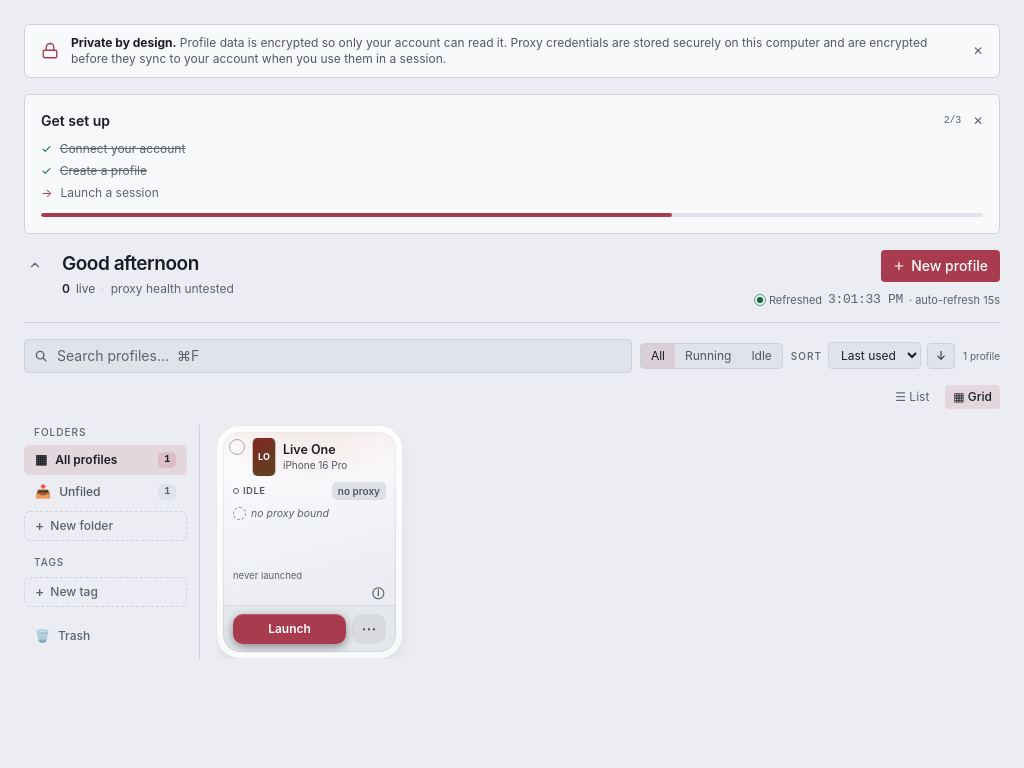
TrashPanel load truth › recovers from a failed load through Retry
Expected: the text "Live One" is shown, [283, 442, 336, 456]
Click the button "🗑️ Trash": [106, 636] box [24, 620, 187, 650]
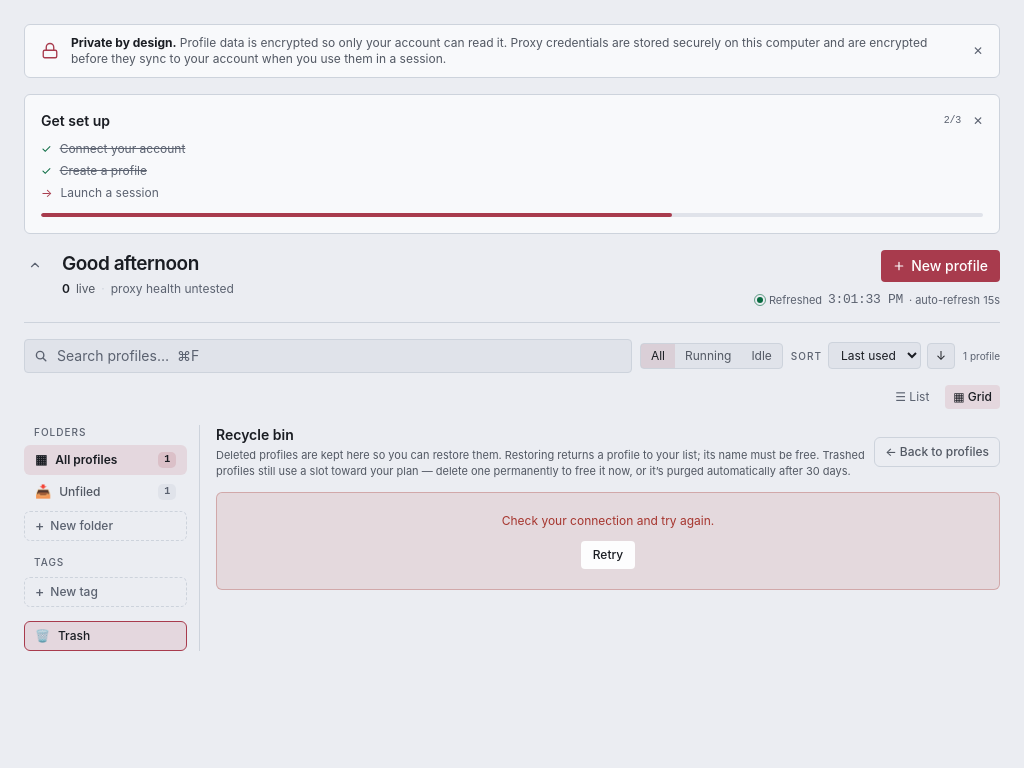
Click the button "Retry": [608, 554] box [581, 540, 635, 568]
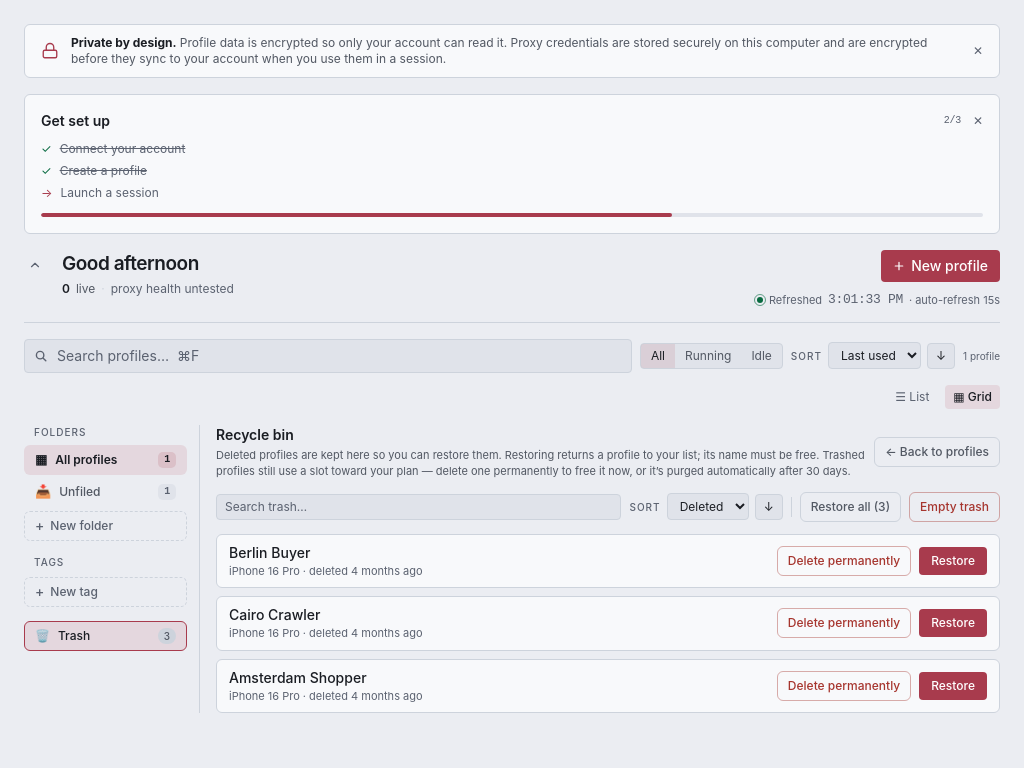
Result: the text "Amsterdam Shopper" is shown at [229, 668, 366, 686]
Result: the message "Check your connection and try again. Retry" is gone
